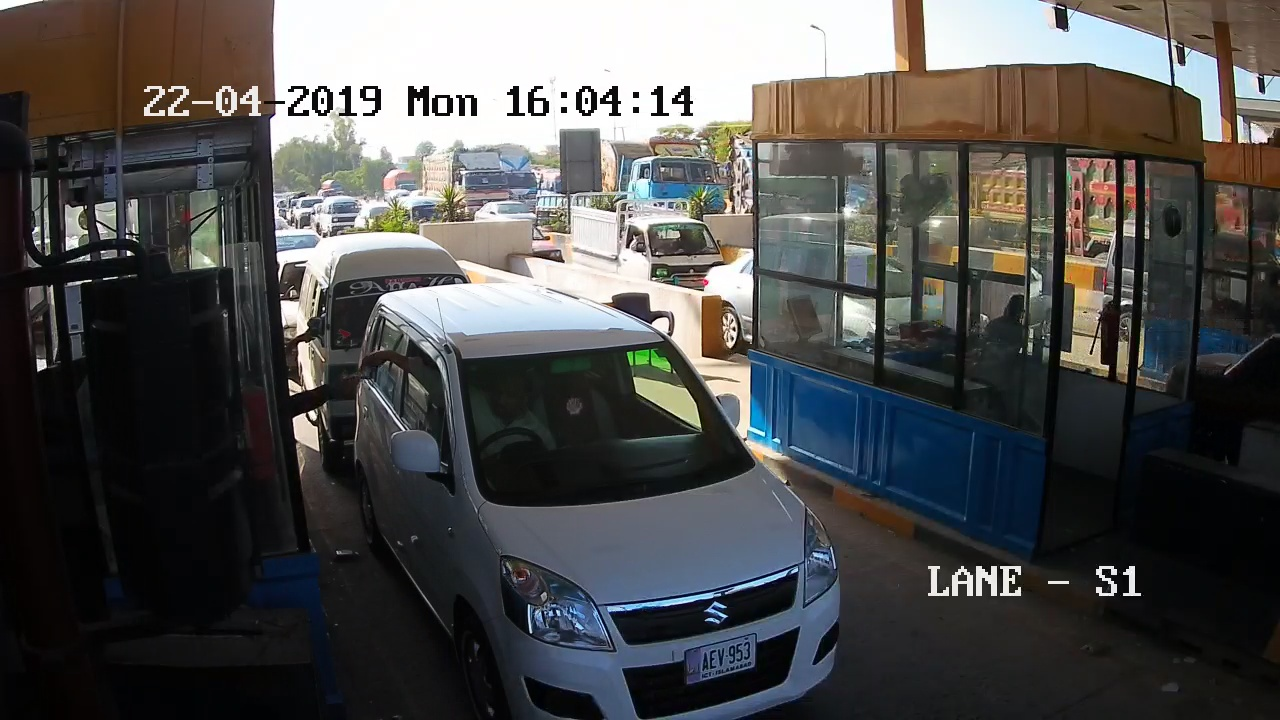Number Plate (Car): (679, 641, 761, 680)
